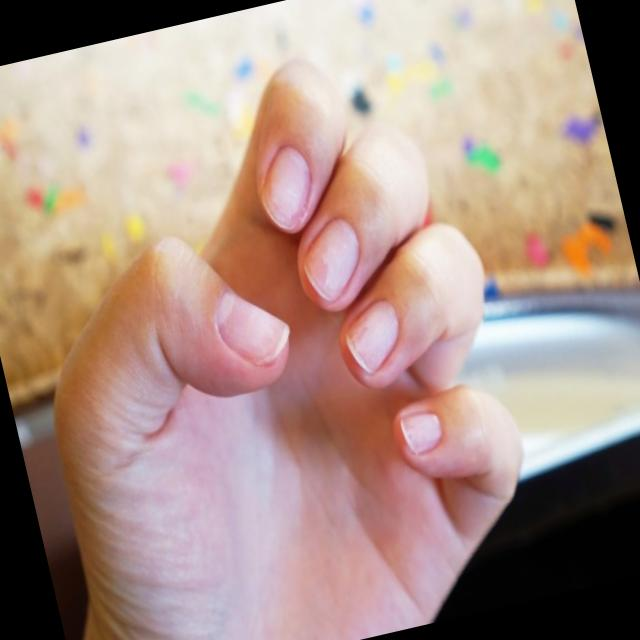Nail: (216, 293, 288, 365), (302, 218, 359, 301), (261, 145, 312, 231), (346, 300, 398, 373), (400, 412, 442, 454)
